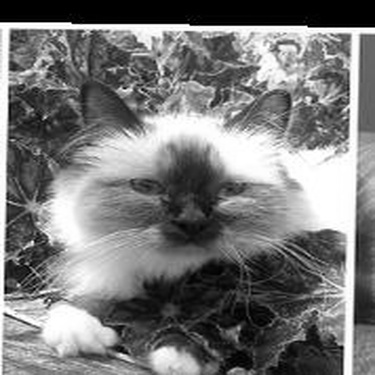cat: (38, 75, 345, 370)
